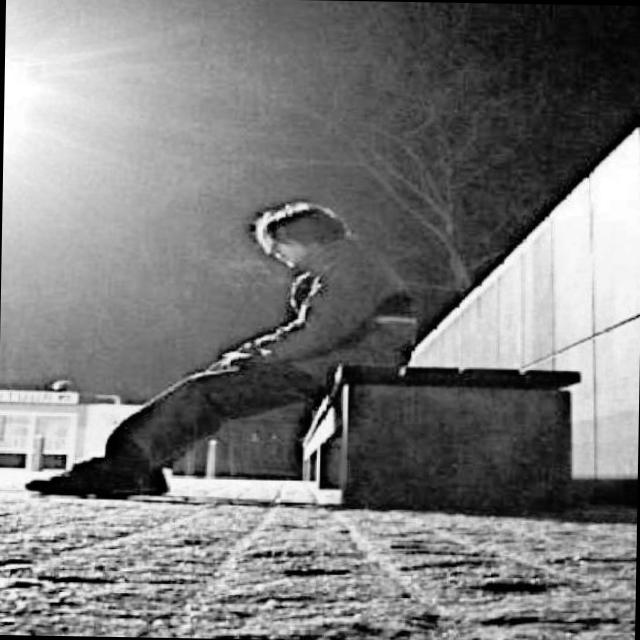Person: (18, 198, 424, 506)
